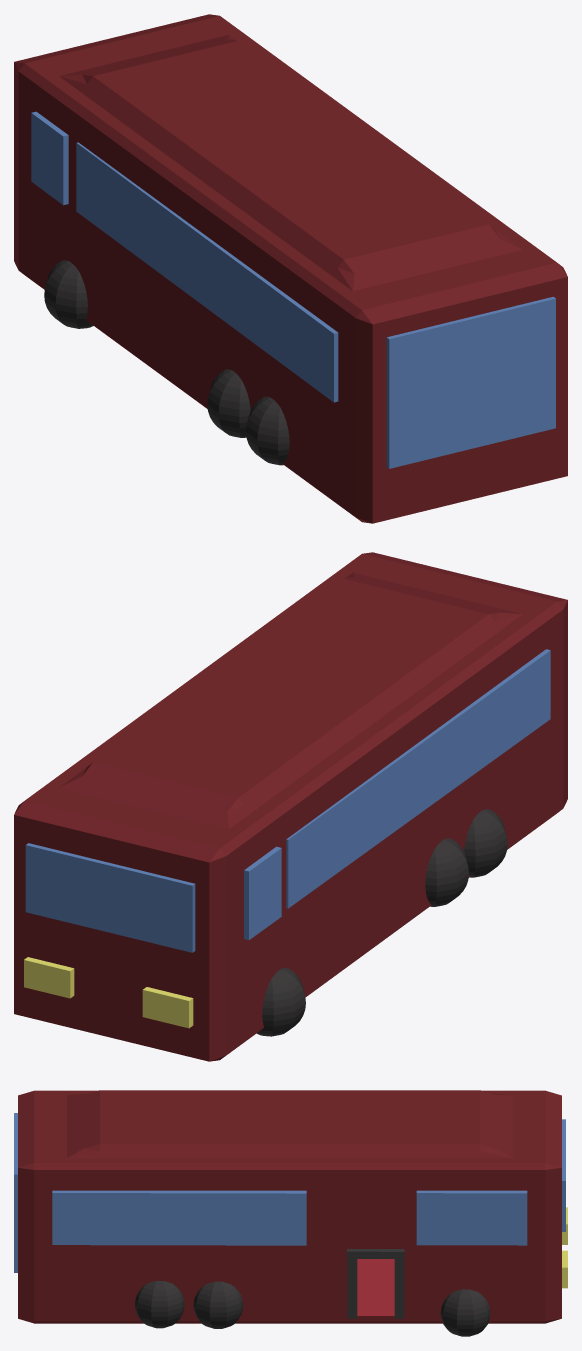
Rendered from car7.fbx.
3 views of the same model, one above another, from view 1: azimuth 30°, elevation 25°; view 2: azimuth 150°, elevation 25°; view 3: azimuth 270°, elevation 25° (orthographic). The views are drawn at different scales.
Visible parts, largest first — view 1: Cube.009, Cube.003, Cube.018, Cube.012, Sphere.009, Sphere.011, Sphere.010; view 2: Cube.009, Cube.018, Cube.010, Cube.012, Sphere.009, Sphere.010, Sphere.011, Cube.002, Cube.001; view 3: Cube.009, Cube.013, Cube.011, Cube.017, Sphere.006, Sphere.007, Sphere.008, Cube.014, Cube.015, Cube.003, Cube.016, Cube.010.
Boxes of the visible parts, x1,y1,x2,y2 form: Cube.009: (14, 14, 567, 523); Cube.003: (386, 296, 555, 468); Cube.018: (76, 142, 338, 402); Cube.012: (31, 111, 68, 205); Sphere.009: (44, 260, 93, 328); Sphere.011: (246, 396, 289, 465); Sphere.010: (207, 369, 250, 437); Cube.009: (14, 552, 567, 1061); Cube.018: (286, 649, 550, 908); Cube.010: (25, 843, 195, 952); Cube.012: (244, 846, 281, 939); Sphere.009: (256, 967, 305, 1036); Sphere.010: (425, 838, 468, 906); Sphere.011: (464, 809, 507, 877); Cube.002: (142, 987, 193, 1028); Cube.001: (24, 957, 74, 998); Cube.009: (18, 1090, 561, 1323); Cube.013: (52, 1190, 306, 1245); Cube.011: (416, 1190, 527, 1245); Cube.017: (357, 1259, 394, 1315); Sphere.006: (440, 1289, 490, 1336); Sphere.007: (193, 1281, 243, 1328); Sphere.008: (135, 1281, 184, 1328); Cube.014: (347, 1259, 357, 1318); Cube.015: (394, 1259, 404, 1318); Cube.003: (14, 1113, 17, 1272); Cube.016: (347, 1249, 404, 1258); Cube.010: (562, 1119, 565, 1231).
Size of the model in its own units: 242 by 224 by 616.
